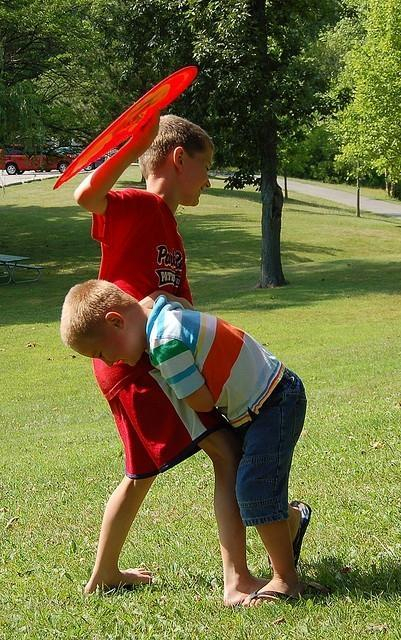car: (1, 144, 72, 176), (55, 146, 110, 170)
